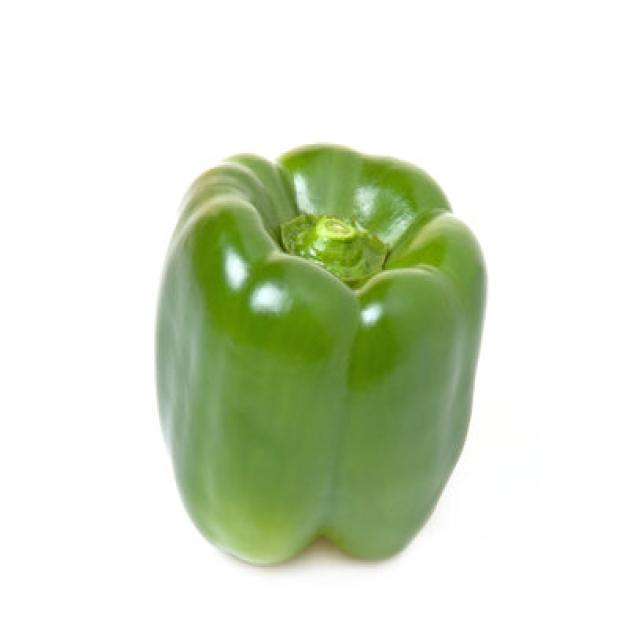Bell Pepper: (152, 140, 488, 566)
